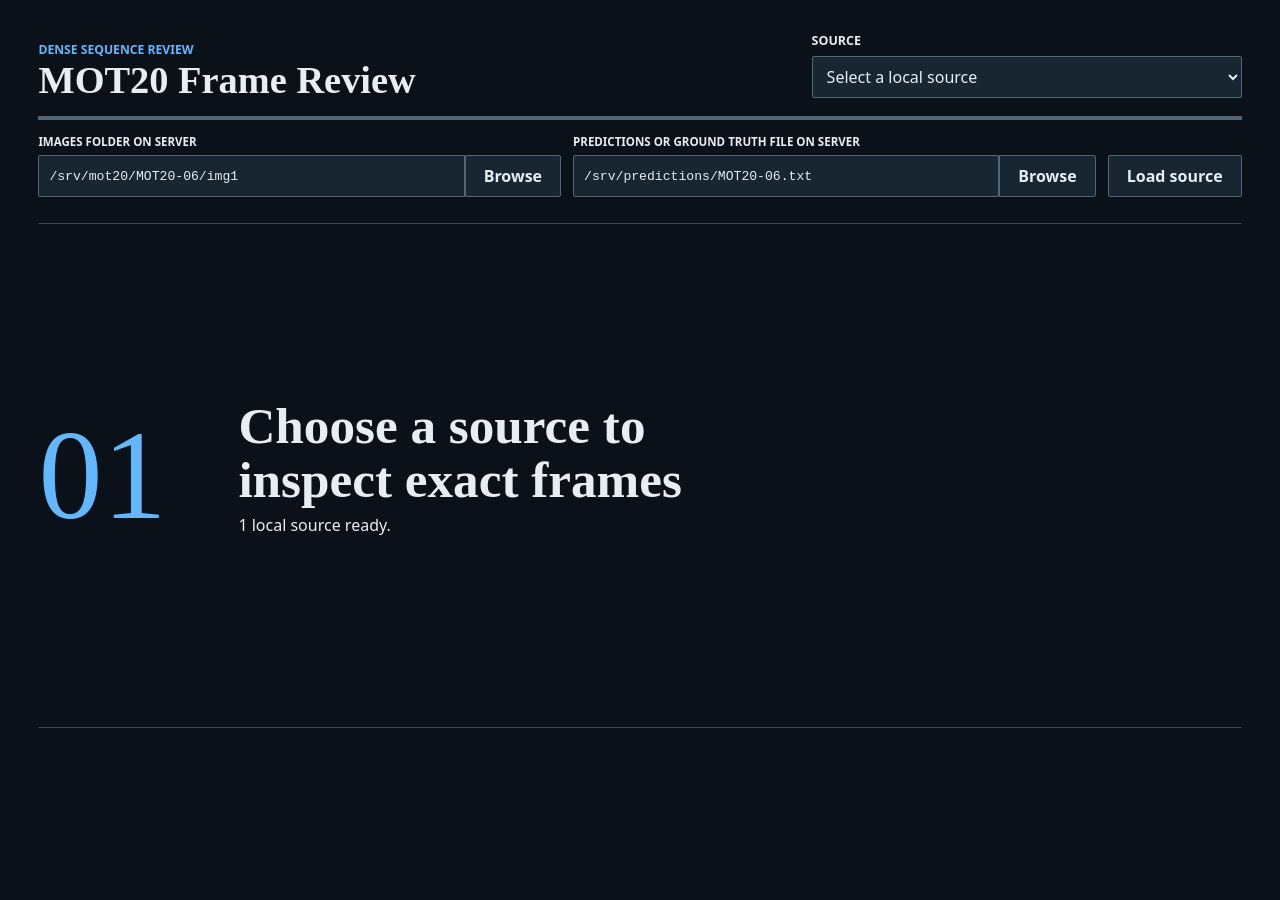
App › reports an exact JPEG transport failure
Select "MOT20-06 / mot20-06-joco-v1" in the dropdown labelled "Source": (1027,77) x1=812 y1=56 x2=1242 y2=98
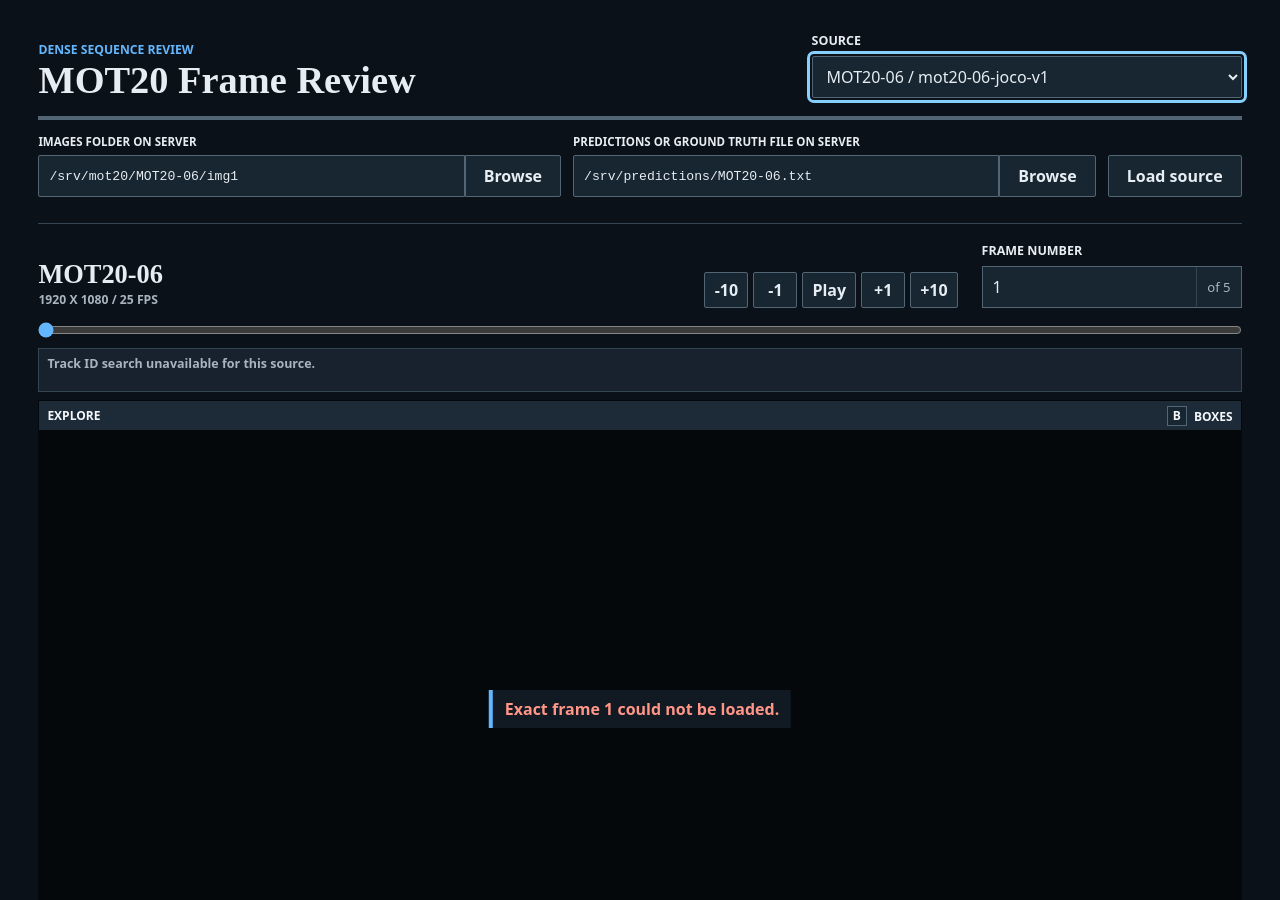
expect the text "Exact frame 1 could not be loaded." is shown: met, box x1=489 y1=690 x2=791 y2=728
